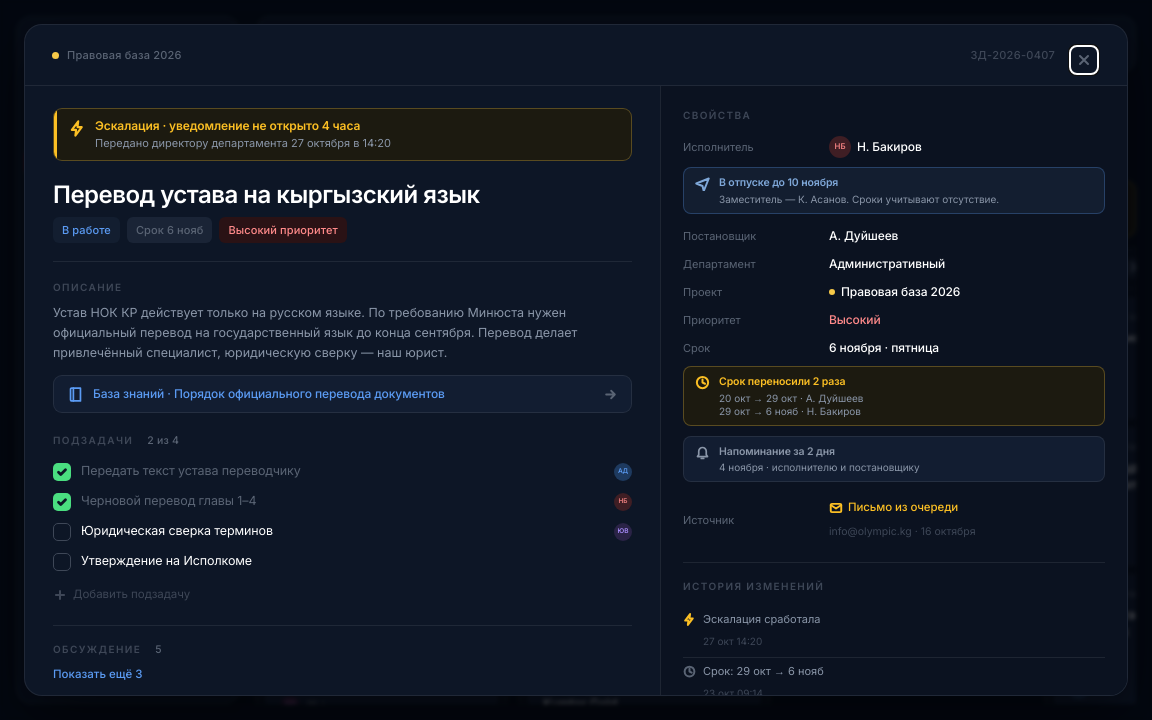
карточка задачи › прямая ссылка открывает задачу; счётчики совпадают с содержимым
This screenshot has width=1152, height=720.
Check: the dialog shows "2 из 4", box [147,434,179,447]
Click the button "Показать ещё 3": click(98, 674) [53,666,142,683]
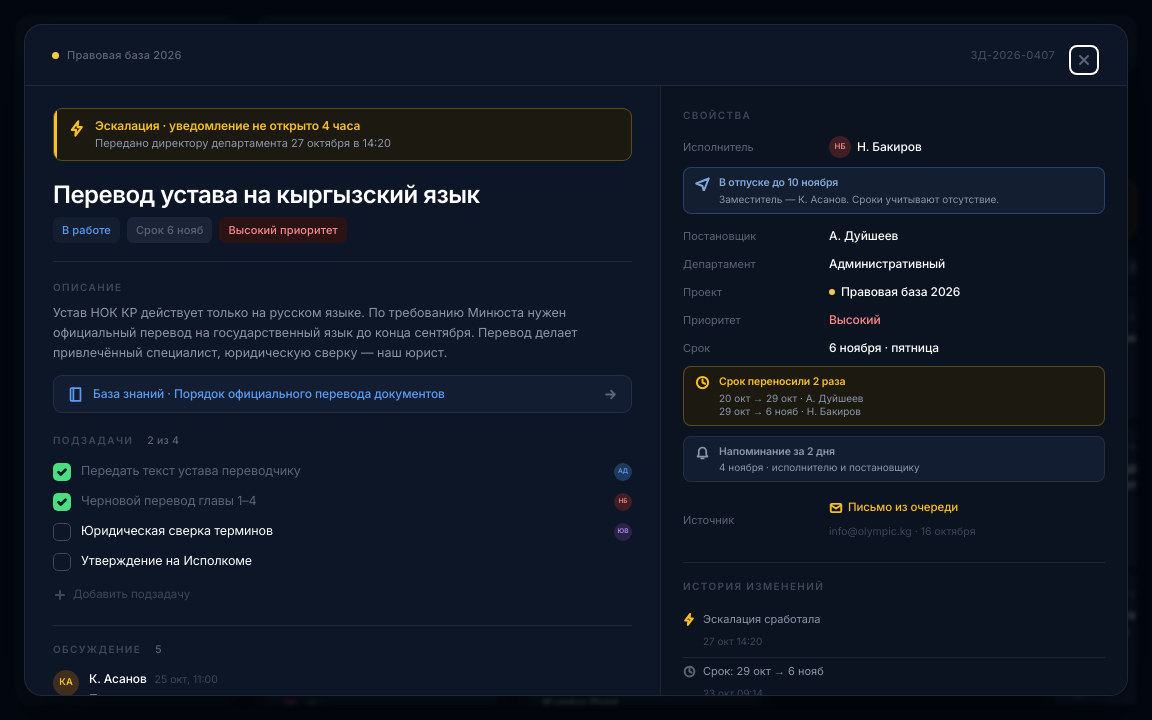
Check: the button "Показать ещё 3" no longer shows "Показать ещё"
